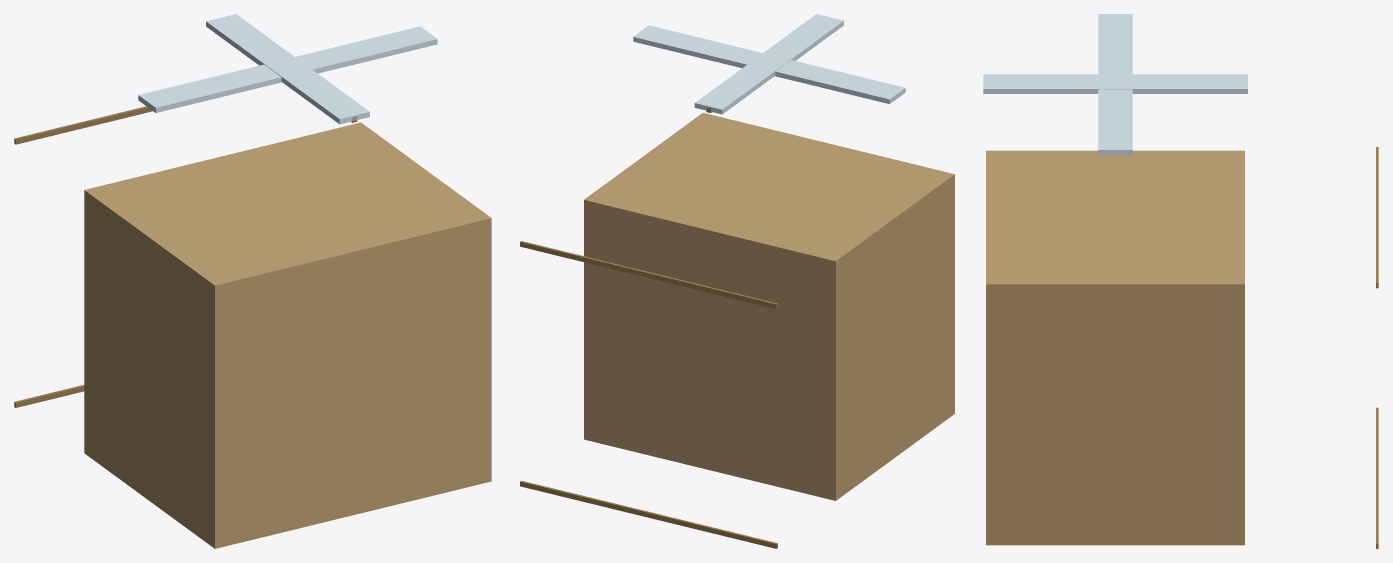
The model's file is cardboard_box.fbx.
The picture shows the model from 3 angles, left to right: view 1: azimuth 30°, elevation 25°; view 2: azimuth 150°, elevation 25°; view 3: azimuth 270°, elevation 25°; orthographic projection. The views are drawn at different scales.
Parts seen in each view (by area): view 1: Box_Body, Tape_H, Tape_V, Crease.001; view 2: Box_Body, Tape_H, Tape_V, Crease, Crease.001; view 3: Box_Body, Tape_V, Tape_H.
Part boxes in pixels (bbox=[...]): Box_Body: bbox=[84, 122, 491, 548]; Tape_H: bbox=[138, 26, 437, 112]; Tape_V: bbox=[206, 14, 369, 124]; Crease.001: bbox=[14, 106, 152, 144]; Box_Body: bbox=[584, 113, 954, 500]; Tape_H: bbox=[633, 25, 905, 104]; Tape_V: bbox=[694, 14, 843, 114]; Crease: bbox=[520, 480, 777, 548]; Crease.001: bbox=[520, 241, 777, 308]; Box_Body: bbox=[986, 150, 1244, 545]; Tape_V: bbox=[983, 74, 1247, 93]; Tape_H: bbox=[1098, 14, 1132, 155].
Size of the model in its own units: 56 by 76.6 by 68.75.
